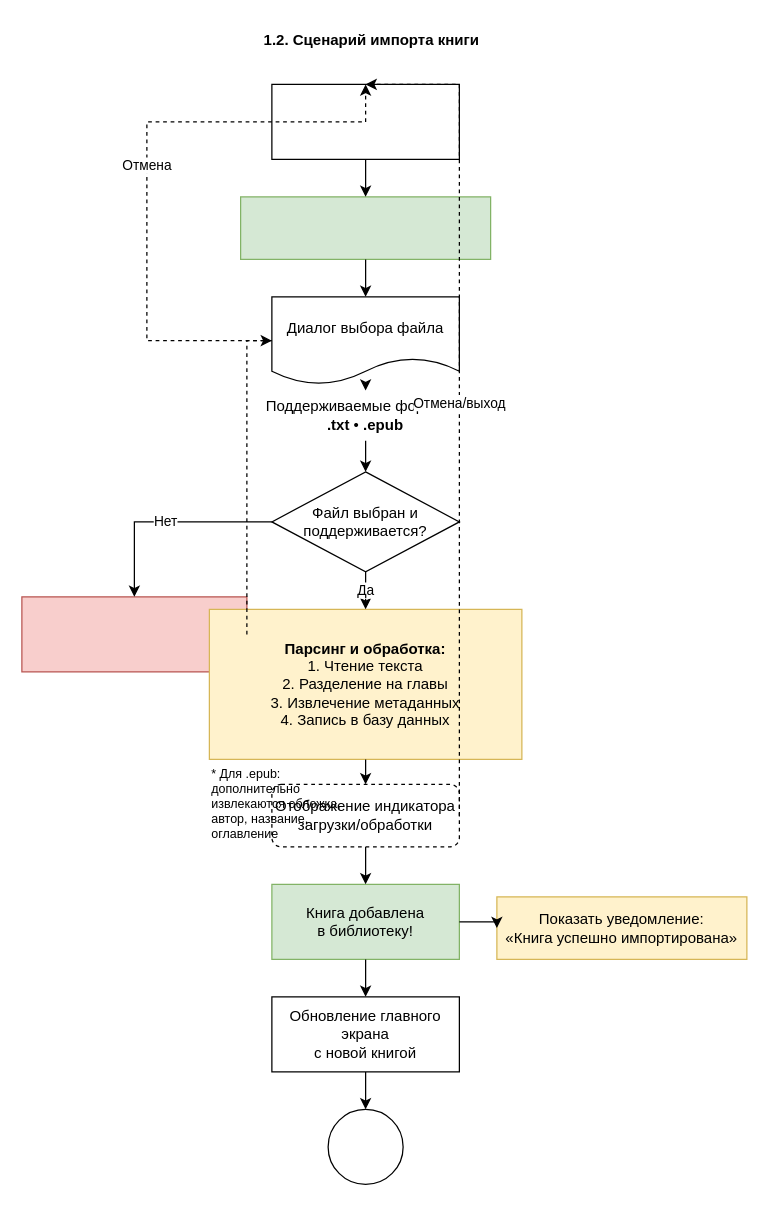
This 769x1206 diagram has some shape labels left out. Here are the shapes that lost their labels. From the top down, the centre of each, then its label:
(365,121): Главный экран
(365,227): Нажатие кнопки «Добавить произведение»
(134,634): Показать ошибку: «Неподдерживаемый формат»
